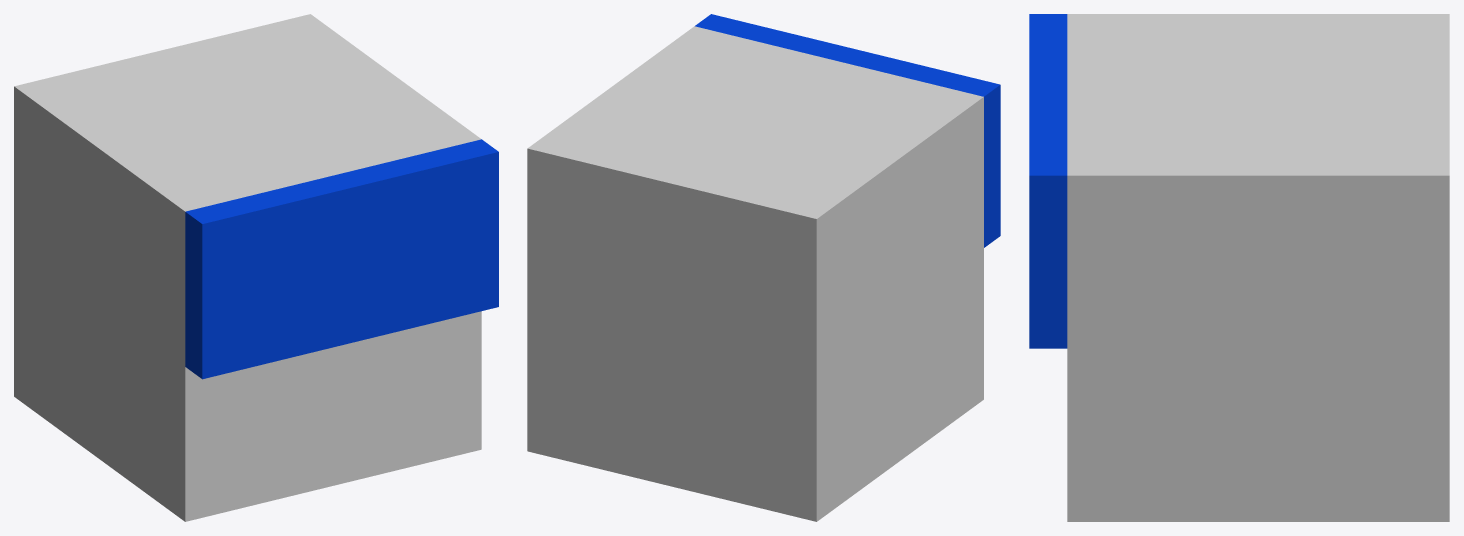
The model's file is Wall3_1x1.fbx.
3 views of the same model, side by side, from view 1: azimuth 30°, elevation 25°; view 2: azimuth 150°, elevation 25°; view 3: azimuth 270°, elevation 25° (orthographic). The views are drawn at different scales.
Parts seen in each view (by area): view 1: Wall3 1x1; view 2: Wall3 1x1; view 3: Wall3 1x1.
Boxes of the visible parts, x1,y1,x2,y2 form: Wall3 1x1: [14, 14, 498, 521]; Wall3 1x1: [527, 14, 1000, 521]; Wall3 1x1: [1029, 14, 1449, 521].
Size of the model in its own units: 100 by 100 by 110.
